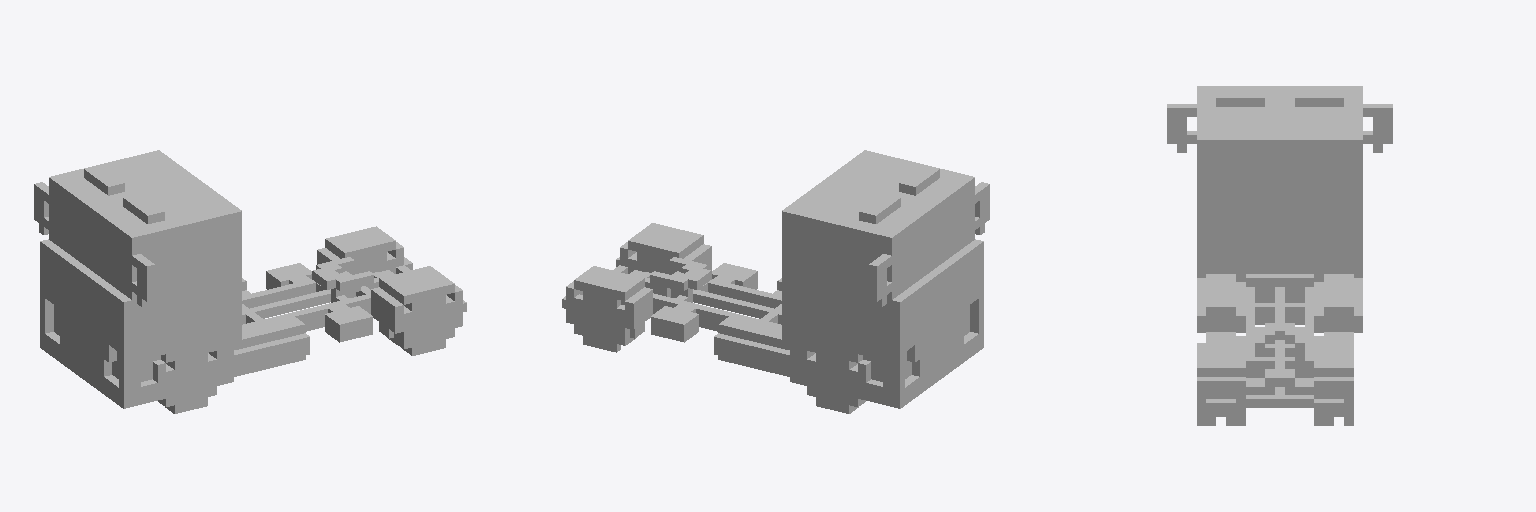
Rendered from Truck.obj.
The picture shows the model from 3 angles: view 1: azimuth 30°, elevation 25°; view 2: azimuth 150°, elevation 25°; view 3: azimuth 270°, elevation 25°; orthographic projection.
Visible parts, largest first — view 1: object 1; view 2: object 1; view 3: object 1.
Boxes of the visible parts, x1=… form: object 1: x1=34, y1=150, x2=466, y2=413; object 1: x1=562, y1=150, x2=989, y2=413; object 1: x1=1167, y1=86, x2=1392, y2=425.
Size of the model in its own units: 4.1 by 2.2 by 2.3.